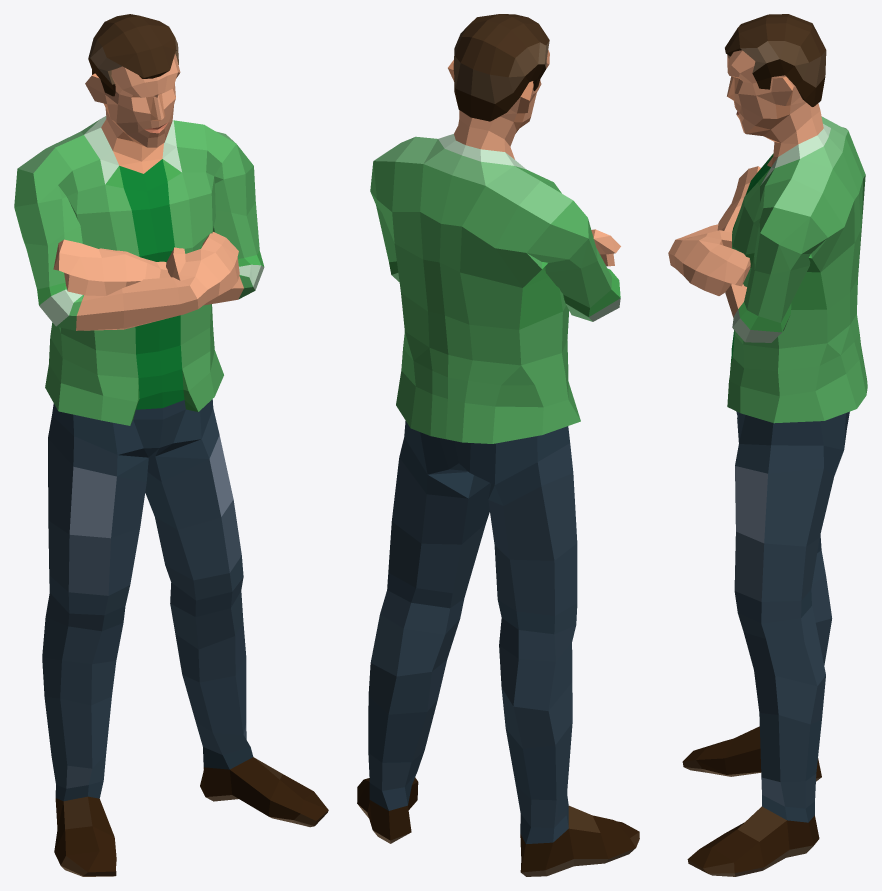
File: swimzhu.glb
The picture shows the model from 3 angles, left to right: view 1: azimuth 30°, elevation 25°; view 2: azimuth 150°, elevation 25°; view 3: azimuth 270°, elevation 25°; orthographic projection. The views are drawn at different scales.
Parts seen in each view (by area): view 1: huitugou_2139_328; view 2: huitugou_2139_328; view 3: huitugou_2139_328.
Boxes of the visible parts, box(x1,y1,x2,y2) form: huitugou_2139_328: box(14, 14, 328, 876); huitugou_2139_328: box(357, 14, 639, 876); huitugou_2139_328: box(668, 14, 867, 876).
Bounding box in the file's own units: 0.6046 × 1.74 × 0.4013.
Materials: 1 (1 with a texture image).
